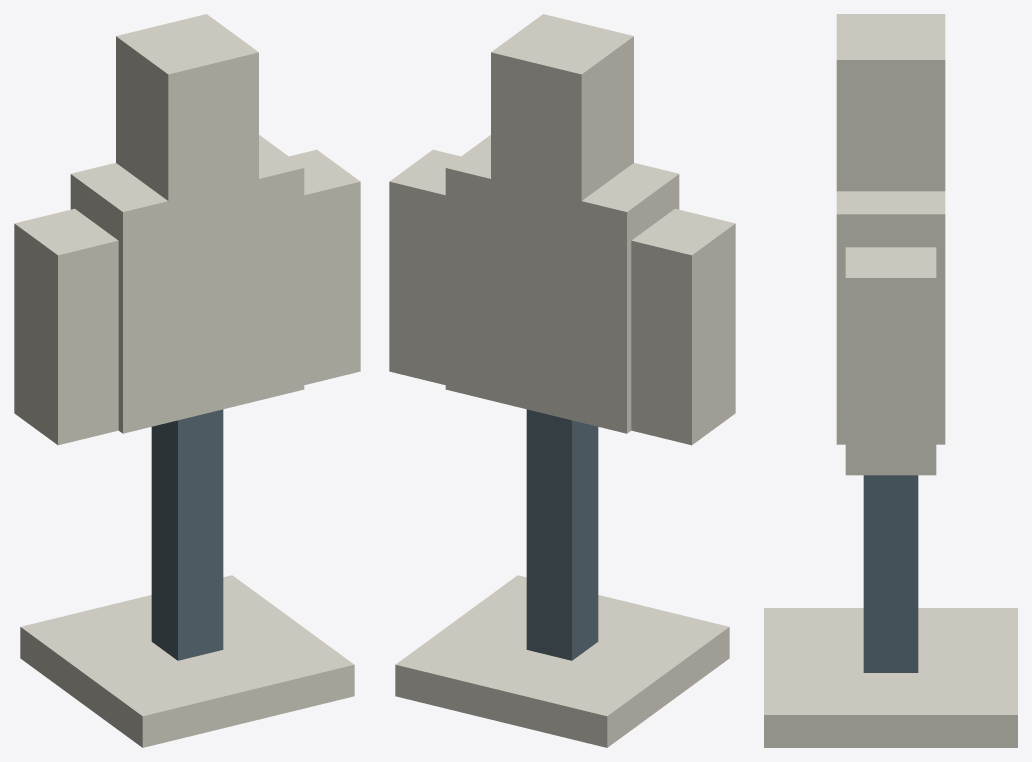
File: voxel-city-districts-display-mannequin-60b94bf2__24880.glb
3 renders of one model, left to right at view 1: azimuth 30°, elevation 25°; view 2: azimuth 150°, elevation 25°; view 3: azimuth 270°, elevation 25°, orthographic. The views are drawn at different scales.
Parts seen in each view (by area): view 1: display-mannequin-concrete, display-mannequin-dark; view 2: display-mannequin-concrete, display-mannequin-dark; view 3: display-mannequin-concrete, display-mannequin-dark.
Part boxes in pixels (x1=…): display-mannequin-concrete: x1=14, y1=14, x2=360, y2=747; display-mannequin-dark: x1=151, y1=409, x2=223, y2=660; display-mannequin-concrete: x1=389, y1=14, x2=735, y2=747; display-mannequin-dark: x1=526, y1=409, x2=598, y2=660; display-mannequin-concrete: x1=764, y1=14, x2=1017, y2=747; display-mannequin-dark: x1=863, y1=475, x2=918, y2=672.
Bounding box in the file's own units: 1 × 2 × 0.7.
